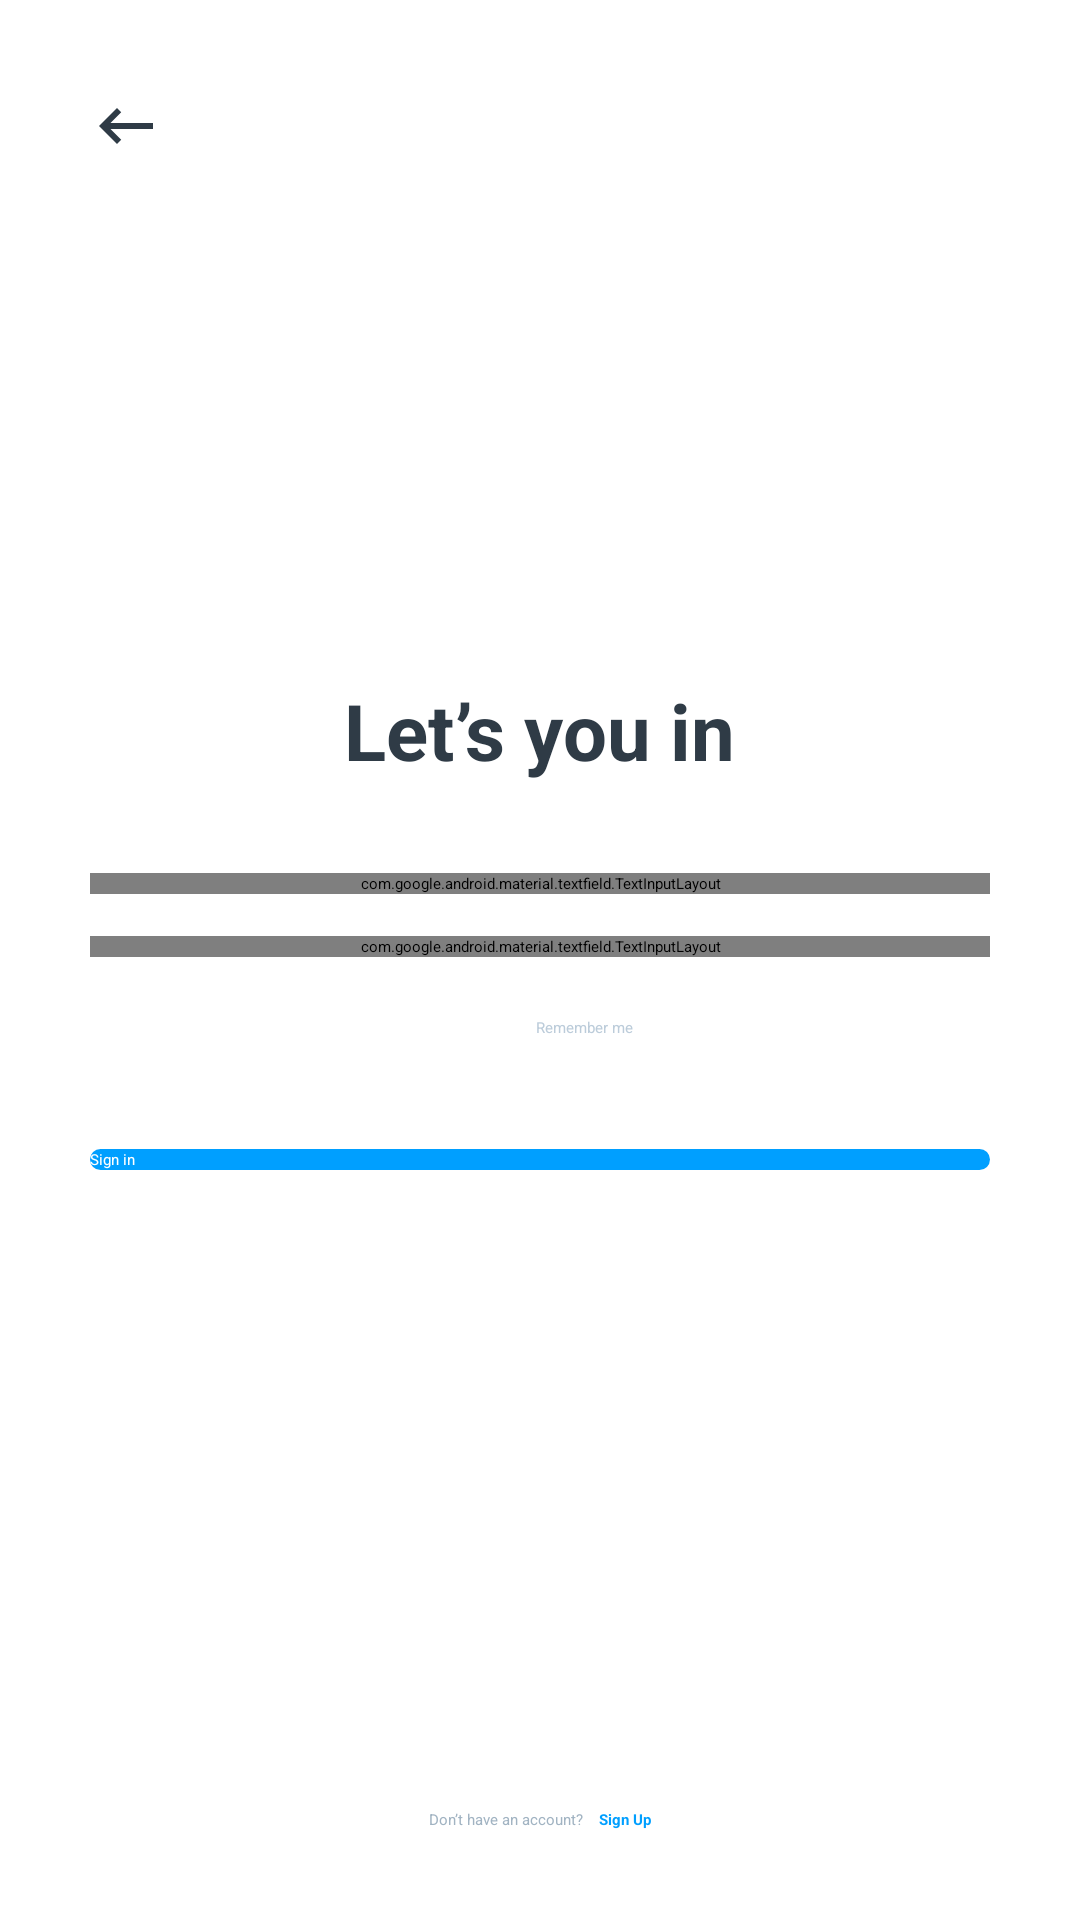

Where to tap for icons on this 1080*1920 app screen, as [x,y]:
keyboard backspace: [126,126]
